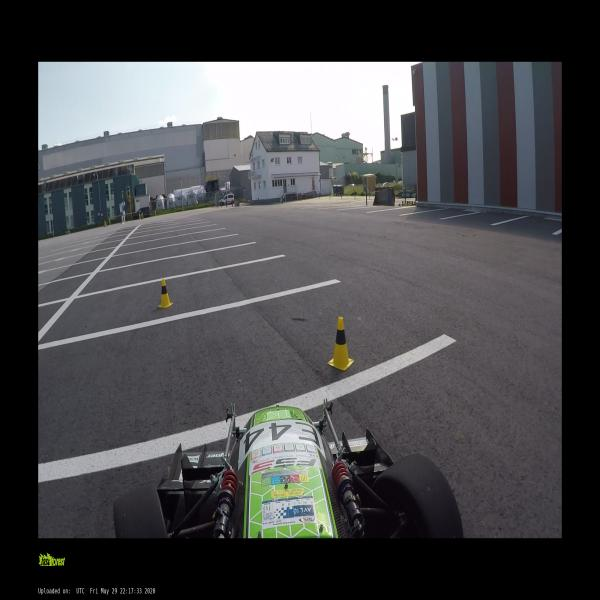yellow_cone: (328, 318, 352, 372), (157, 278, 173, 310)
